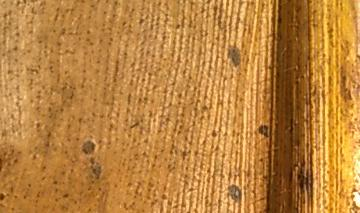tarspot: (292, 159, 313, 195), (338, 65, 353, 104), (225, 43, 243, 69), (87, 156, 103, 179), (226, 183, 243, 204), (81, 139, 96, 157), (257, 123, 270, 140), (179, 7, 185, 29), (128, 120, 141, 130), (326, 27, 336, 40), (210, 127, 218, 138), (137, 18, 146, 26), (1, 156, 5, 172), (311, 22, 319, 29), (354, 53, 360, 62), (174, 23, 181, 30), (1, 192, 6, 201), (267, 64, 273, 70), (21, 1, 27, 5)
